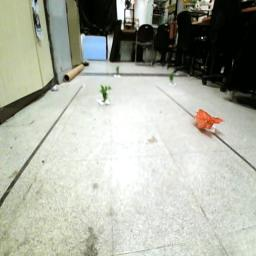herb: (101, 83, 113, 103), (170, 73, 177, 84), (117, 68, 121, 75)
wild: (195, 109, 226, 131)
